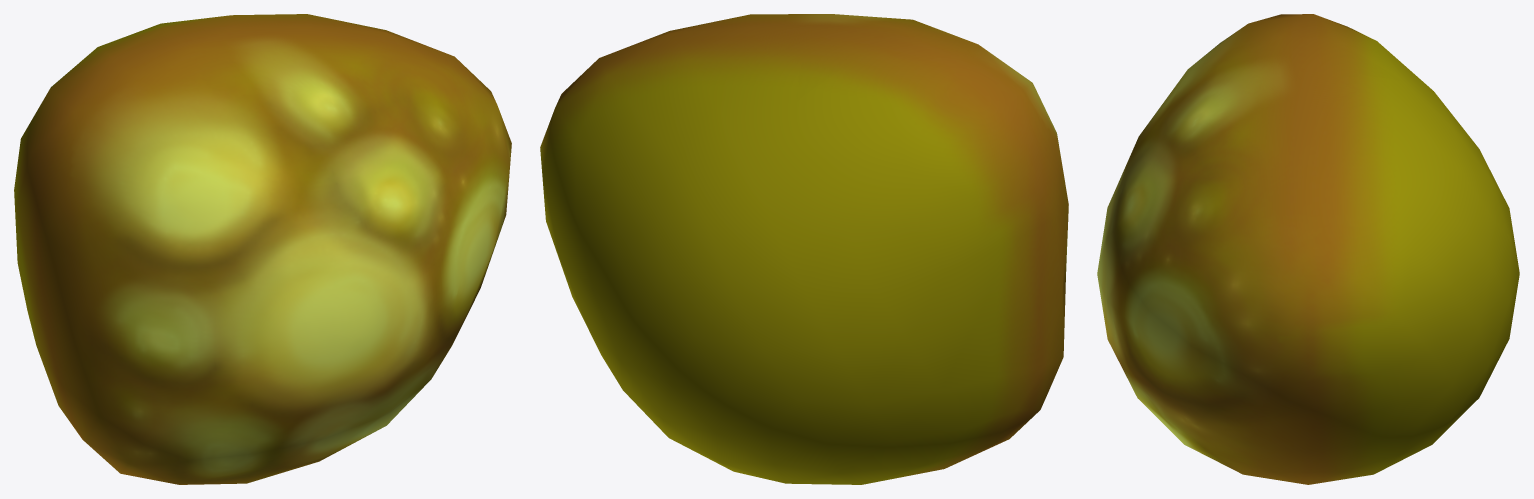
File: Bobble_medium.fbx
3 renders of one model, left to right at view 1: azimuth 30°, elevation 25°; view 2: azimuth 150°, elevation 25°; view 3: azimuth 270°, elevation 25°, orthographic. The views are drawn at different scales.
Parts seen in each view (by area): view 1: Bubble; view 2: Bubble; view 3: Bubble.
Boxes of the visible parts, bbox=[...] form: Bubble: bbox=[14, 14, 511, 484]; Bubble: bbox=[540, 14, 1068, 484]; Bubble: bbox=[1097, 14, 1519, 484].
Size of the model in its own units: 37.64 by 33.21 by 31.99.
Materials: 1 (1 with a texture image).
